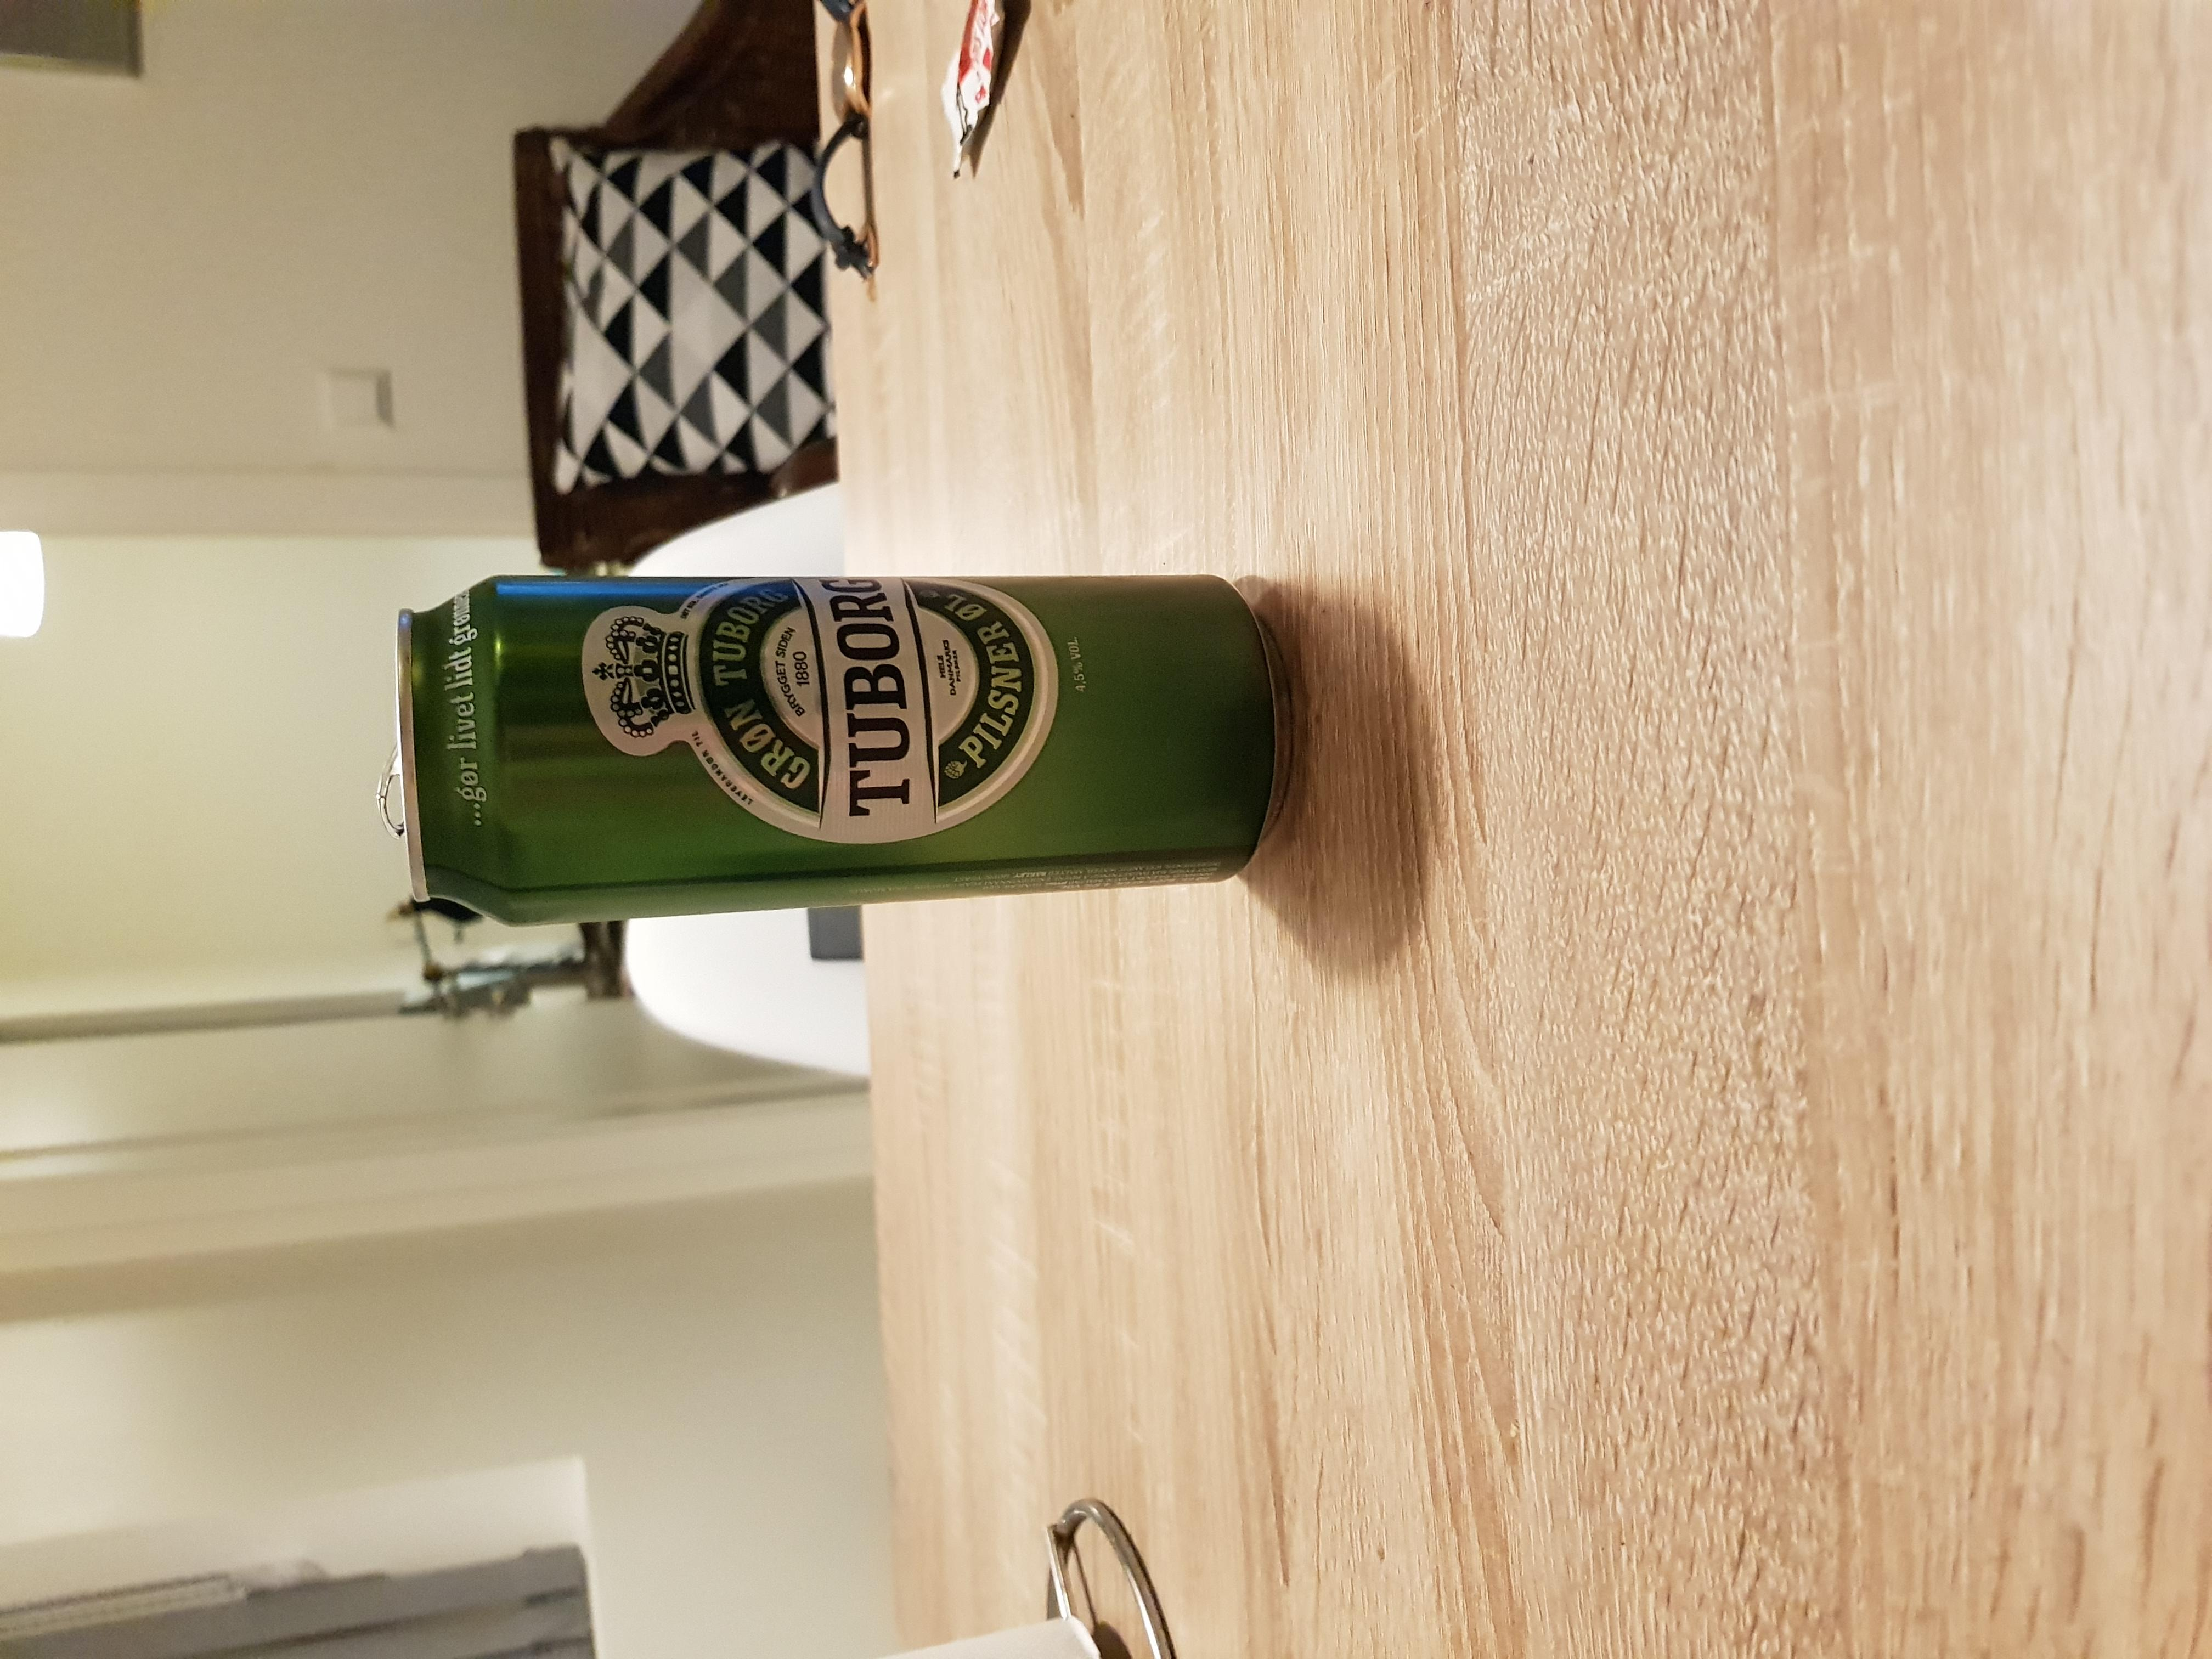Can: (390, 575, 1305, 927)
